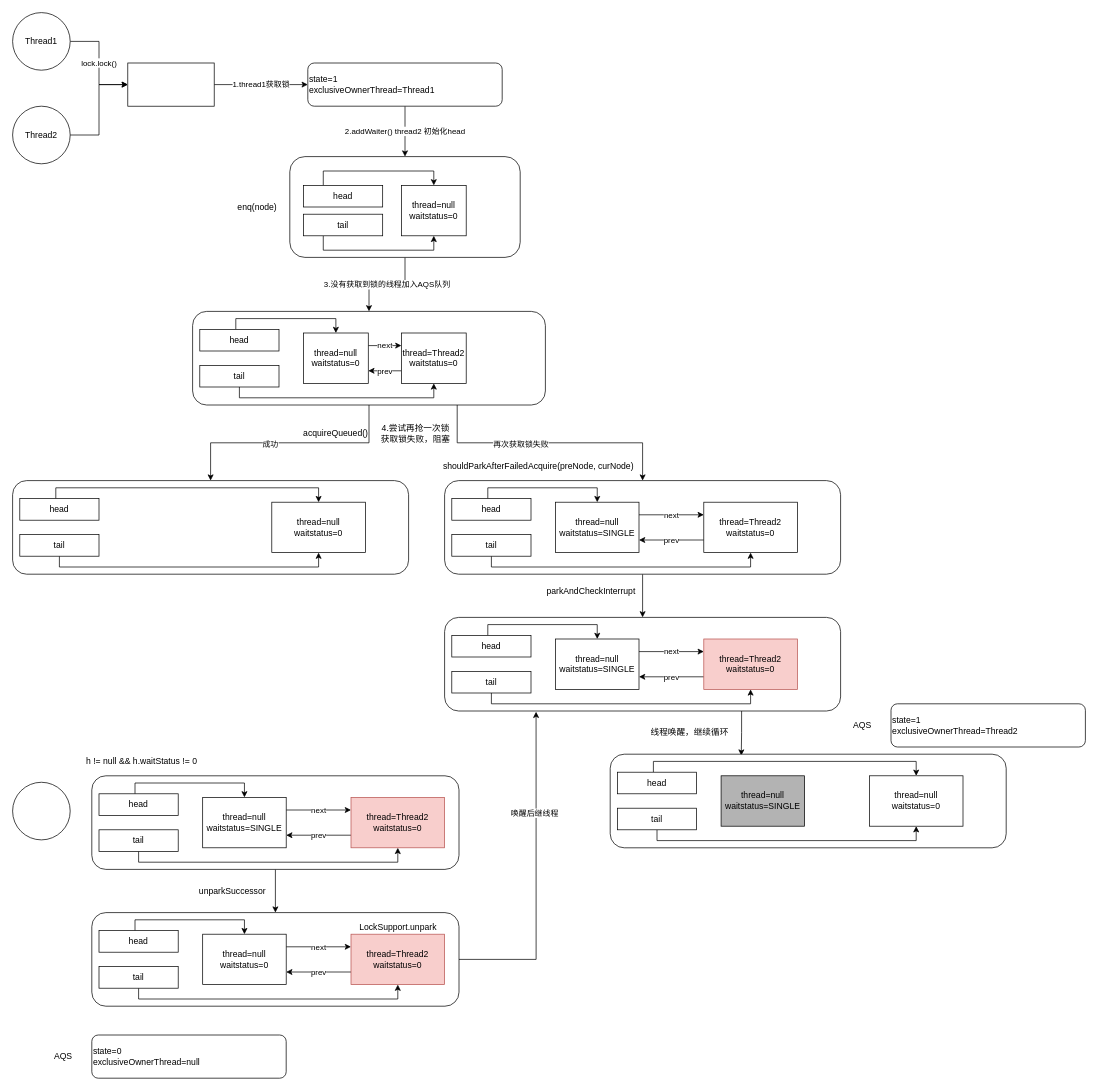
This 1098x1091 diagram has some shape labels left out. Each missing label, with the centre of its shape:
CAS: [170,84]
Thread1 lock.unlock(): [41,811]
